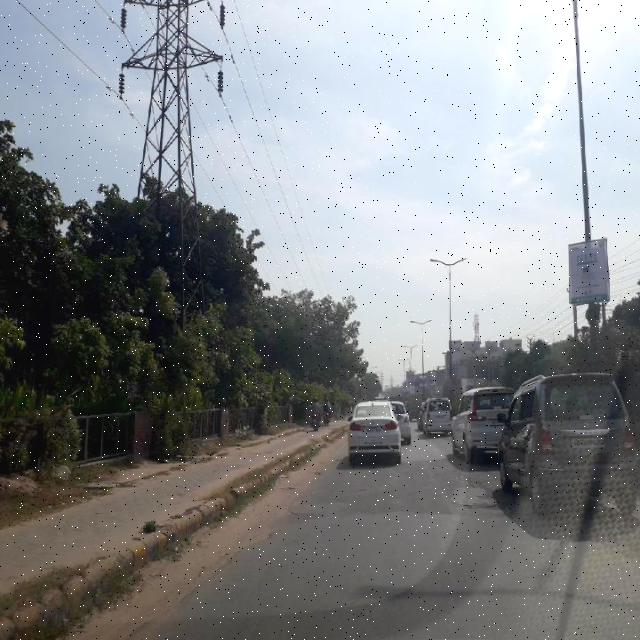D40: (257, 505, 303, 542), (457, 500, 518, 519)
